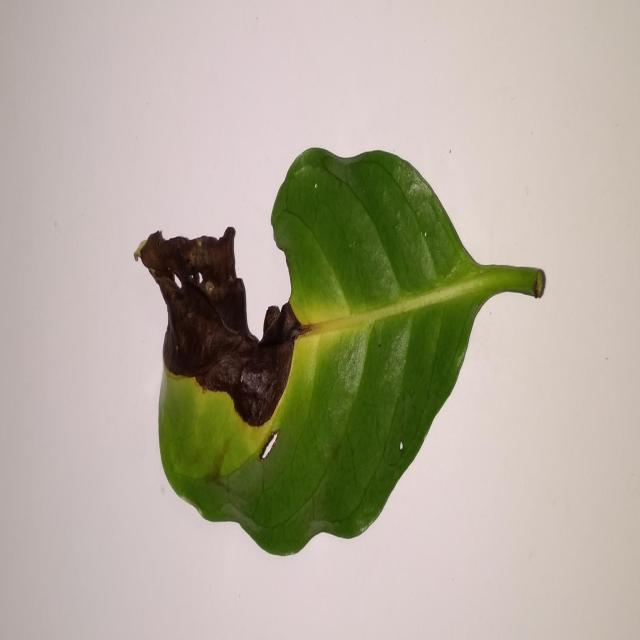Enfermedad-Antracnosis: (132, 147, 548, 559)
